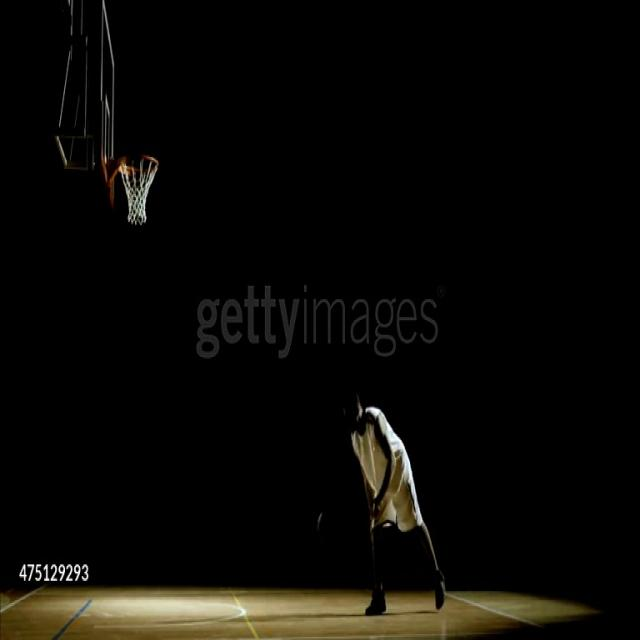ball: (316, 504, 346, 557)
